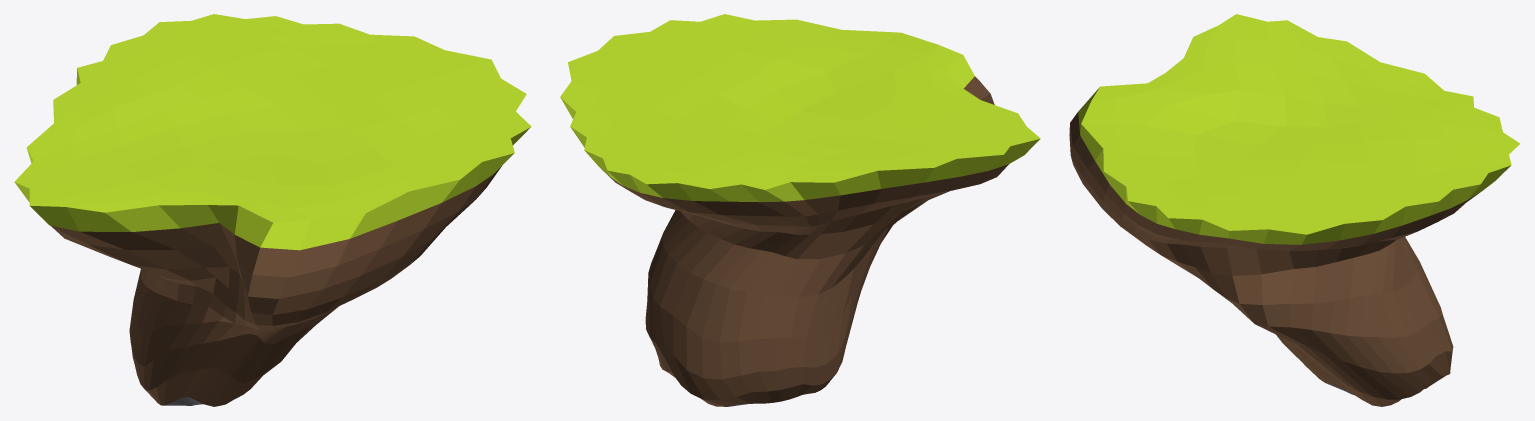
The model's file is PlataformaTierra.glb.
The picture shows the model from 3 angles, left to right: view 1: azimuth 30°, elevation 25°; view 2: azimuth 150°, elevation 25°; view 3: azimuth 270°, elevation 25°; orthographic projection. The views are drawn at different scales.
Parts seen in each view (by area): view 1: Sphere; view 2: Sphere; view 3: Sphere.
Part boxes in pixels (box(x1,y1,x2,y2)): Sphere: box(14, 14, 531, 406); Sphere: box(560, 14, 1040, 406); Sphere: box(1069, 14, 1520, 406).
Bounding box in the file's own units: 3.21 × 1.83 × 2.83.
